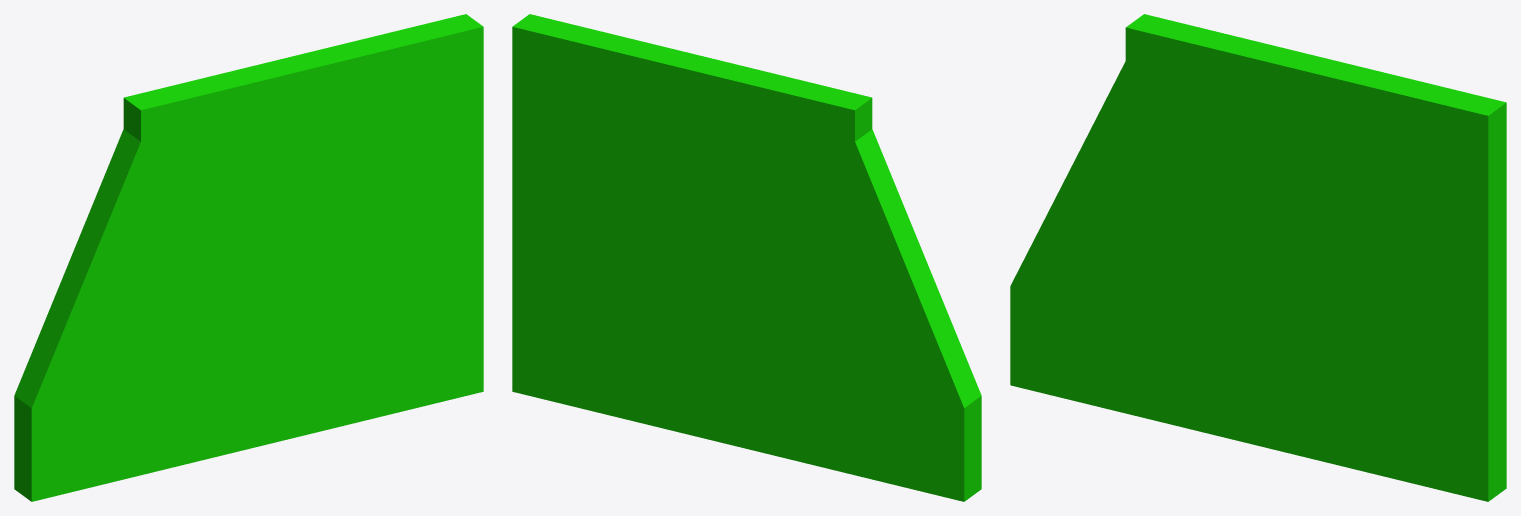
File: sm_wall_corner_collider.fbx
The picture shows the model from 3 angles, left to right: view 1: azimuth 30°, elevation 25°; view 2: azimuth 150°, elevation 25°; view 3: azimuth 330°, elevation 25°; orthographic projection. The views are drawn at different scales.
Visible parts, largest first — view 1: Cube; view 2: Cube; view 3: Cube.
Part boxes in pixels (box(x1,y1,x2,y2)): Cube: box(14, 14, 483, 501); Cube: box(512, 14, 981, 501); Cube: box(1010, 14, 1506, 501).
Size of the model in its own units: 6.08 by 4.69 by 0.4057.
